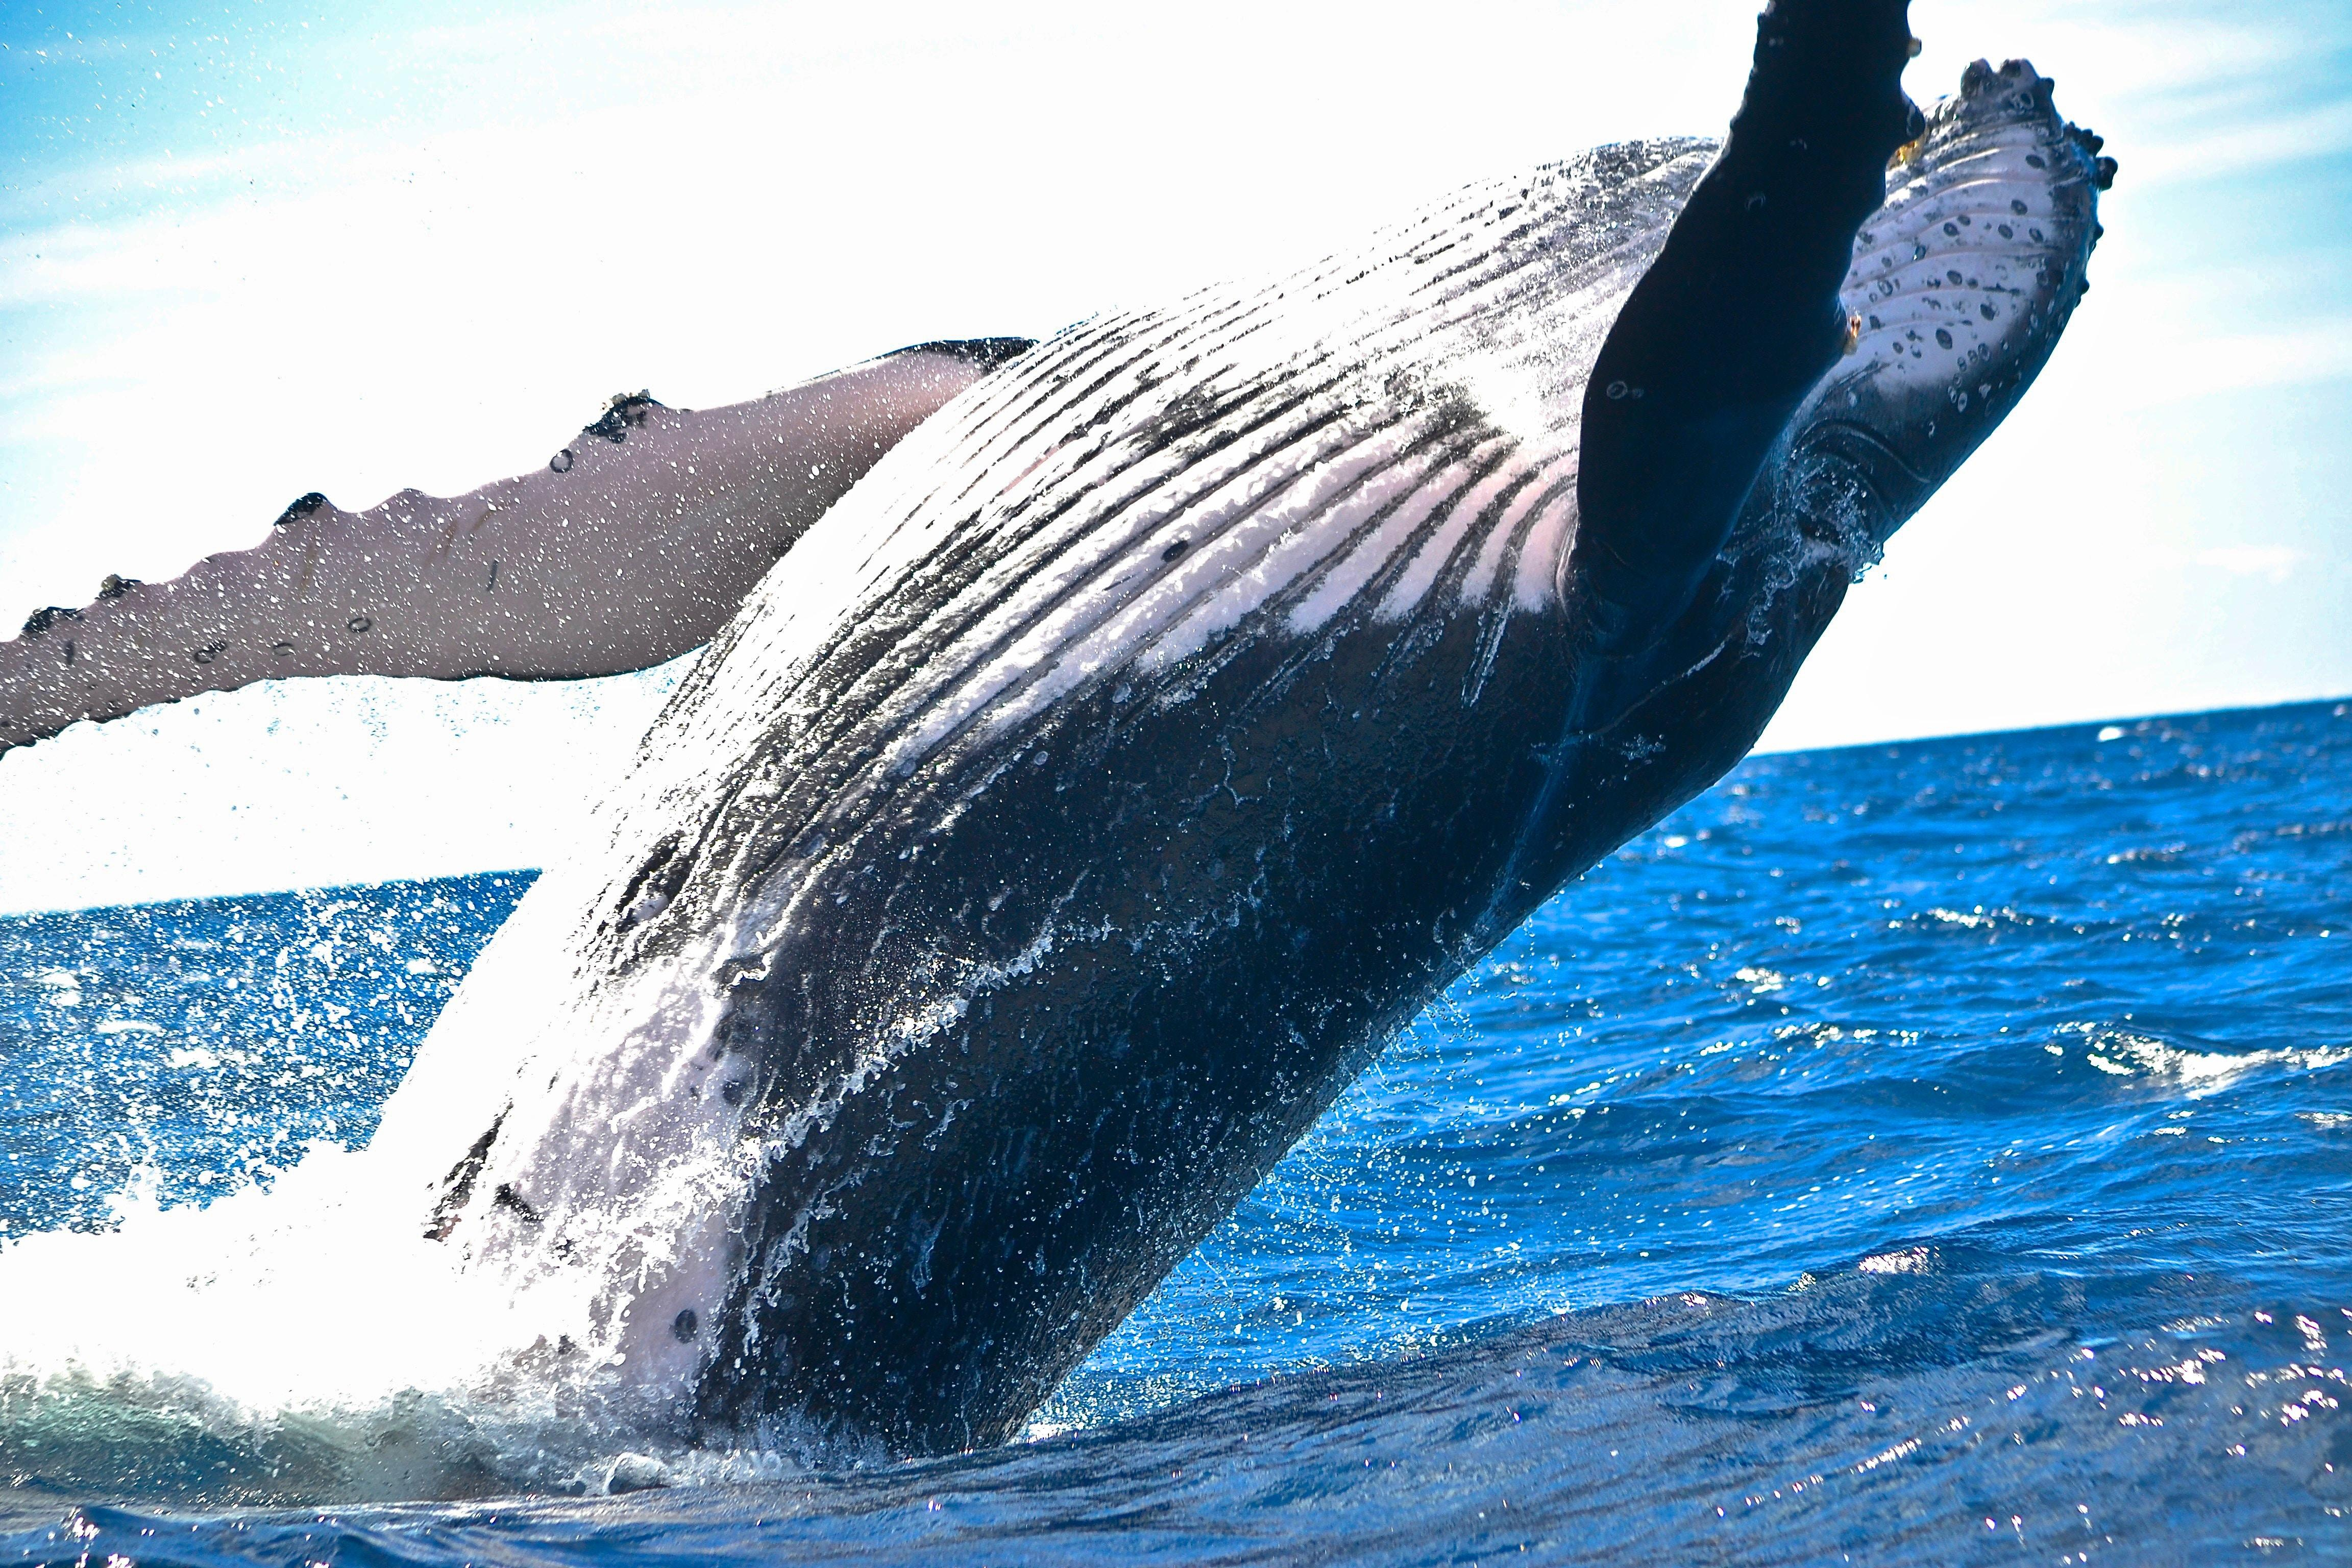fish: (26, 2, 2100, 1514)
